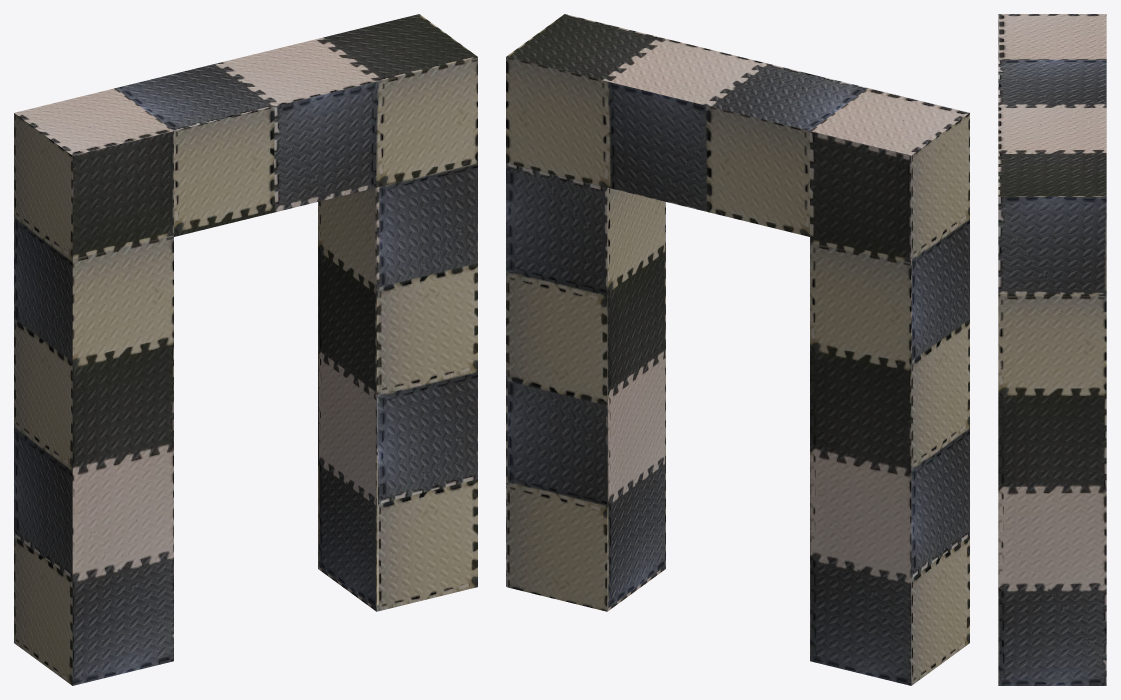
The model's file is 2X4arch.dae.
The picture shows the model from 3 angles, left to right: view 1: azimuth 30°, elevation 25°; view 2: azimuth 150°, elevation 25°; view 3: azimuth 270°, elevation 25°; orthographic projection. The views are drawn at different scales.
Parts seen in each view (by area): view 1: Cube; view 2: Cube; view 3: Cube.
Part boxes in pixels (x1=…): Cube: x1=14, y1=14, x2=477, y2=685; Cube: x1=506, y1=14, x2=969, y2=685; Cube: x1=998, y1=14, x2=1106, y2=685.
Bounding box in the file's own units: 1.2 × 0.3 × 1.5.
Materials: 1 (1 with a texture image).
